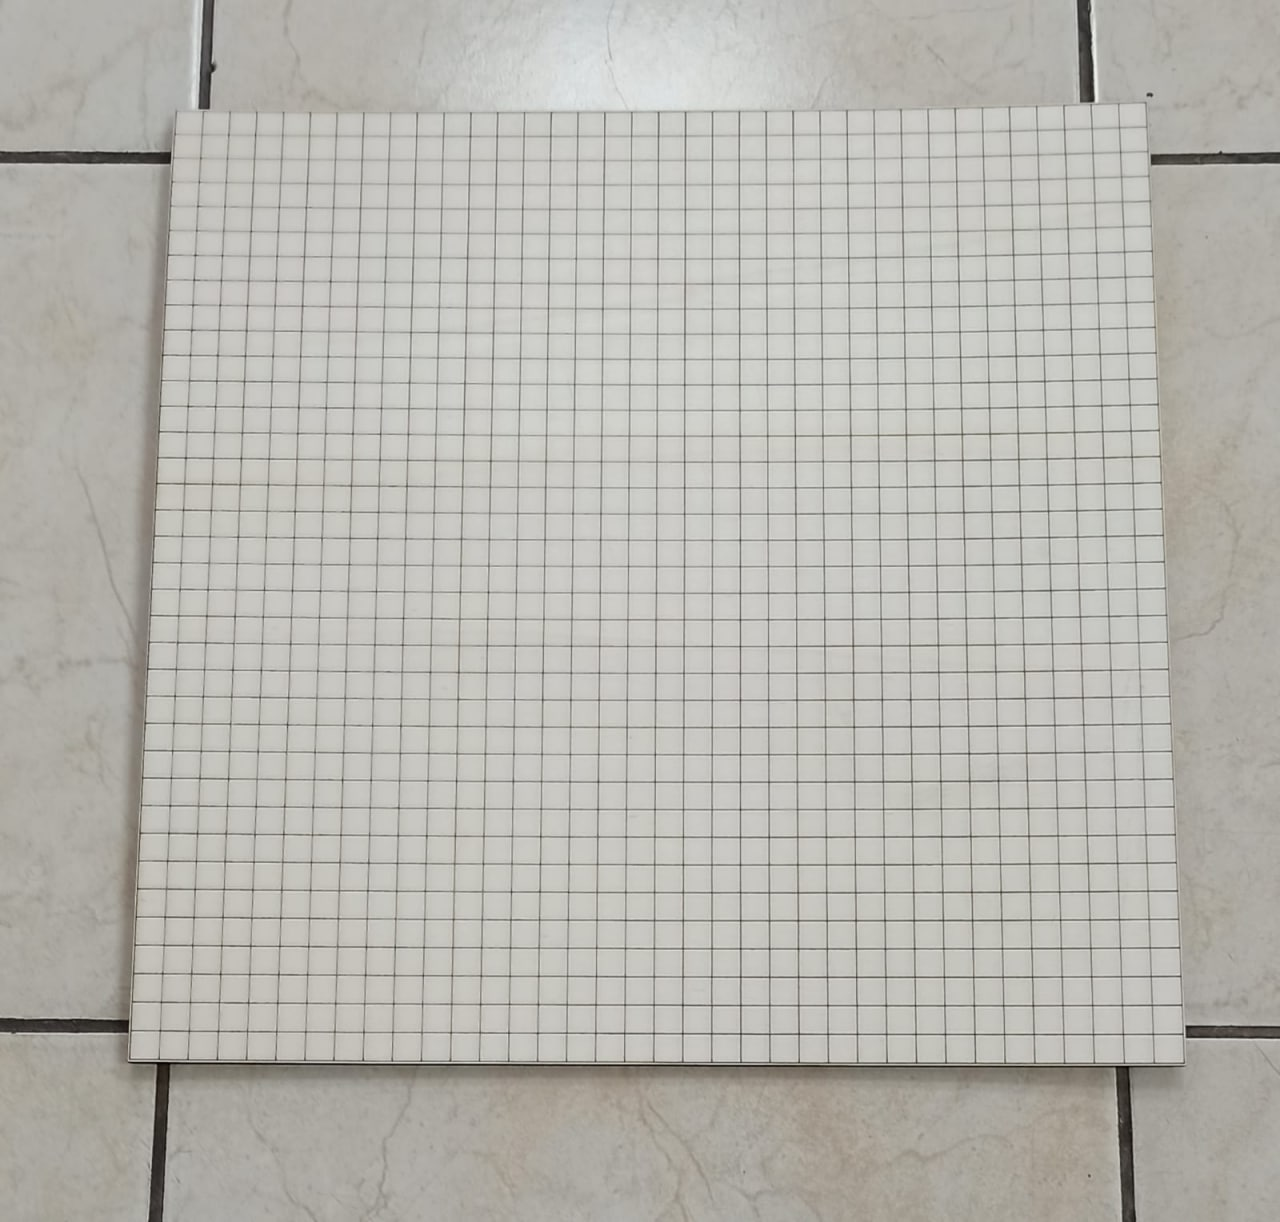grid: (101, 101, 1197, 1088)
